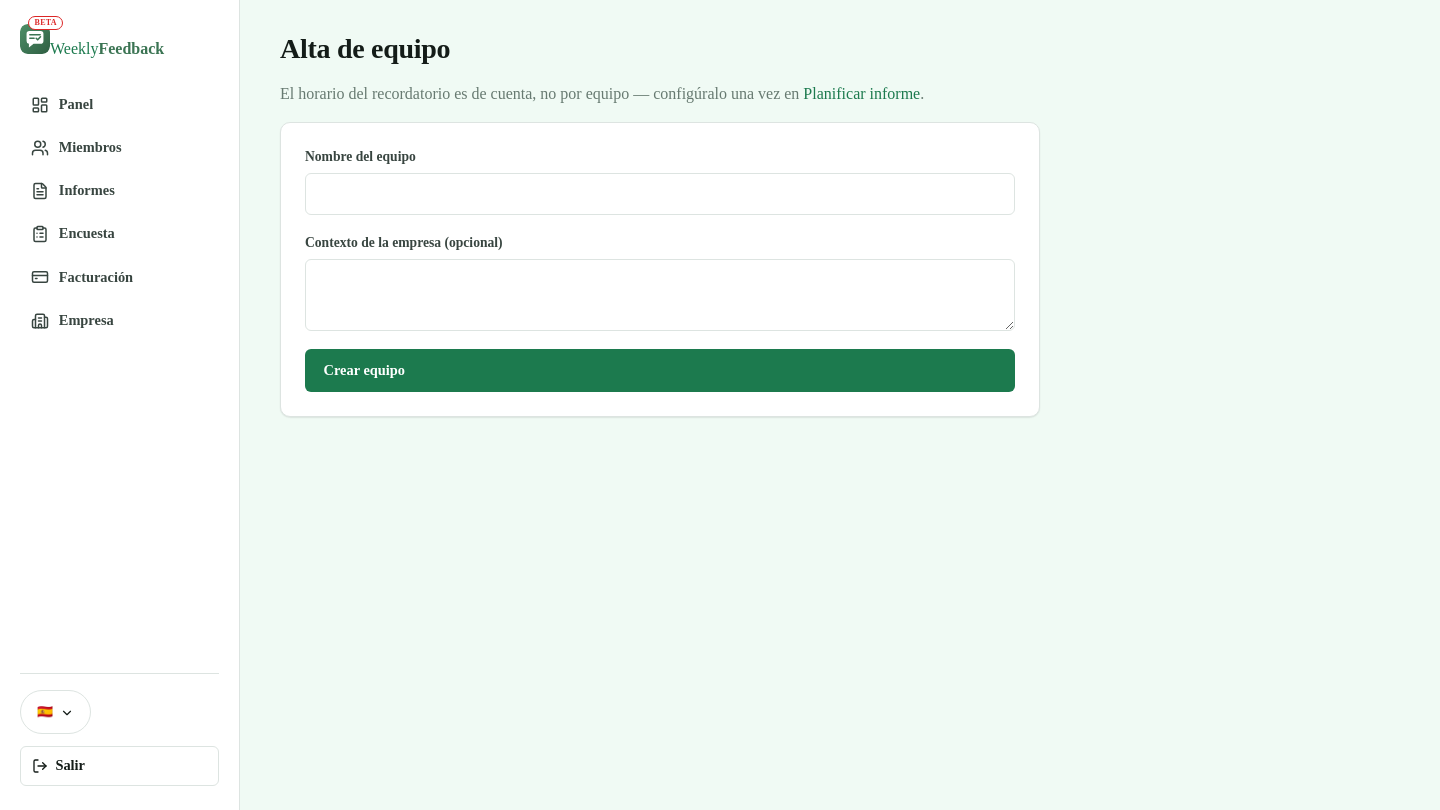
Test: OnboardingPage — paso 1: alta de equipo › fallo al crear: muestra el mensaje real del backend y se queda en el paso 1
In the field labelled "Nombre del equipo": {"x": 660, "y": 194} [305,173,1015,215], type "Producto"
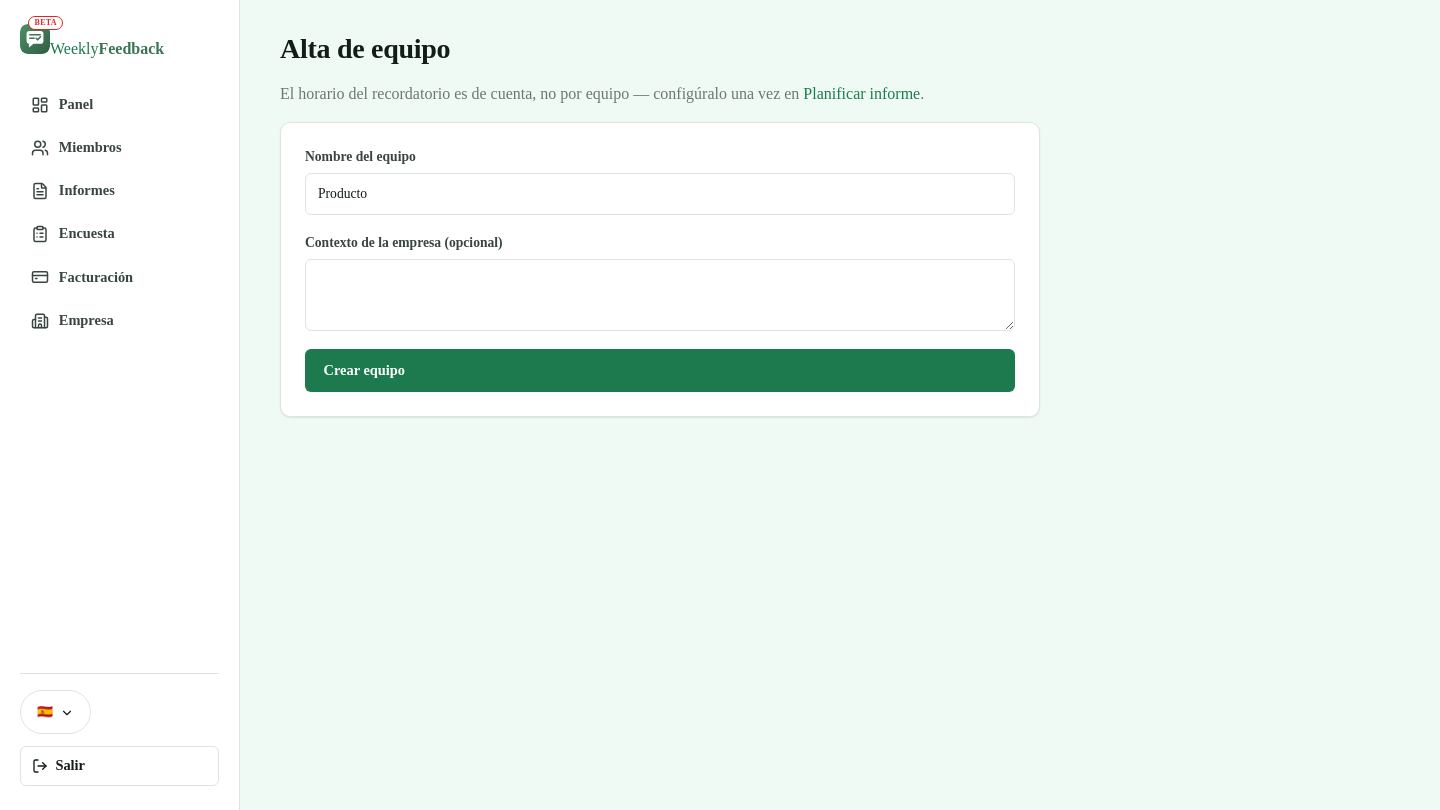
Click the button "Crear equipo": {"x": 364, "y": 370} [305,349,1015,392]
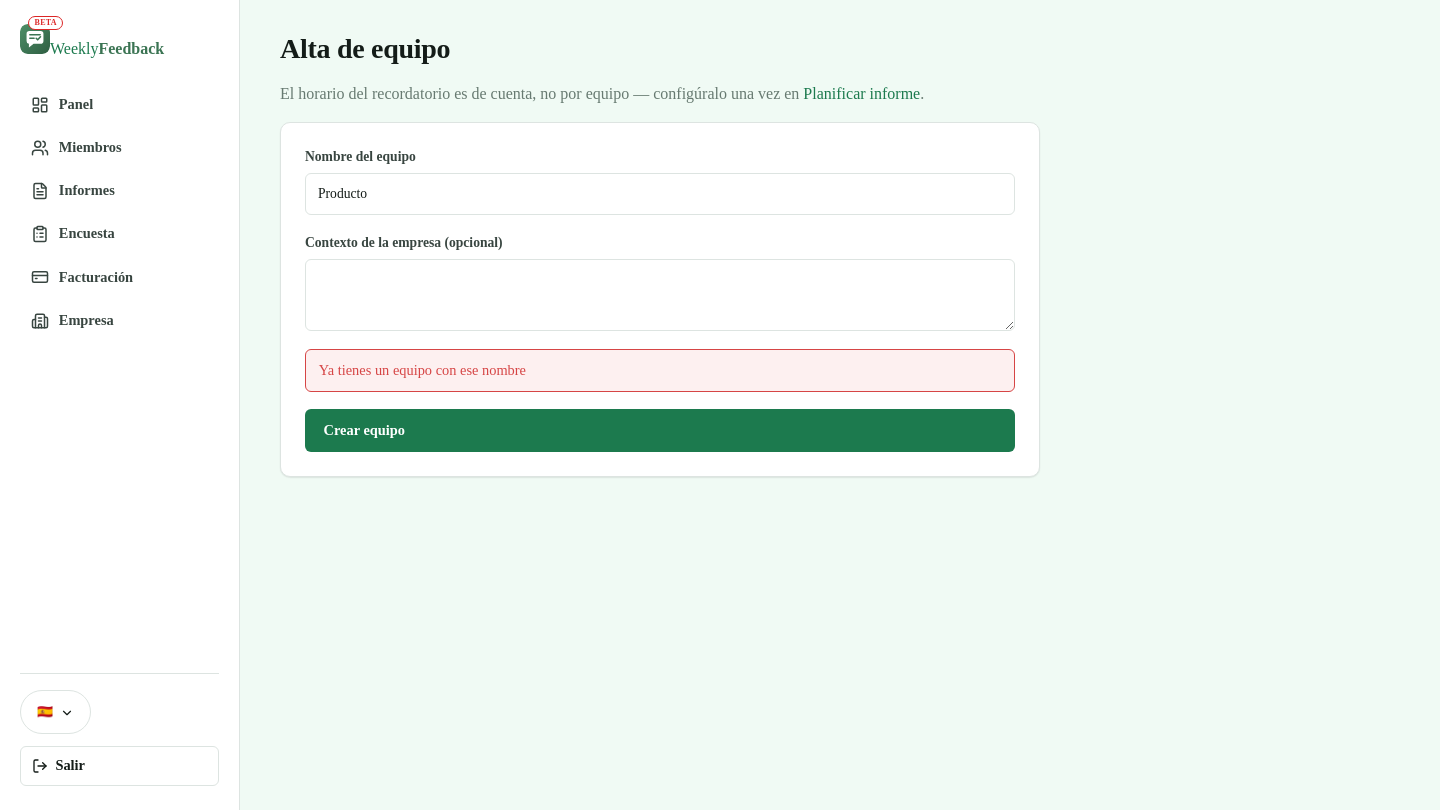
Check: the message reads "Ya tienes un equipo con ese nombre", box [319,362,526,378]
